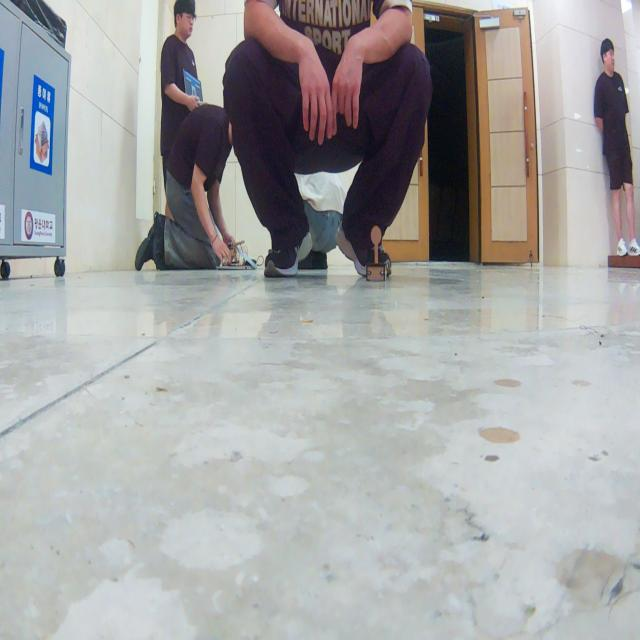target: (366, 225, 386, 281)
